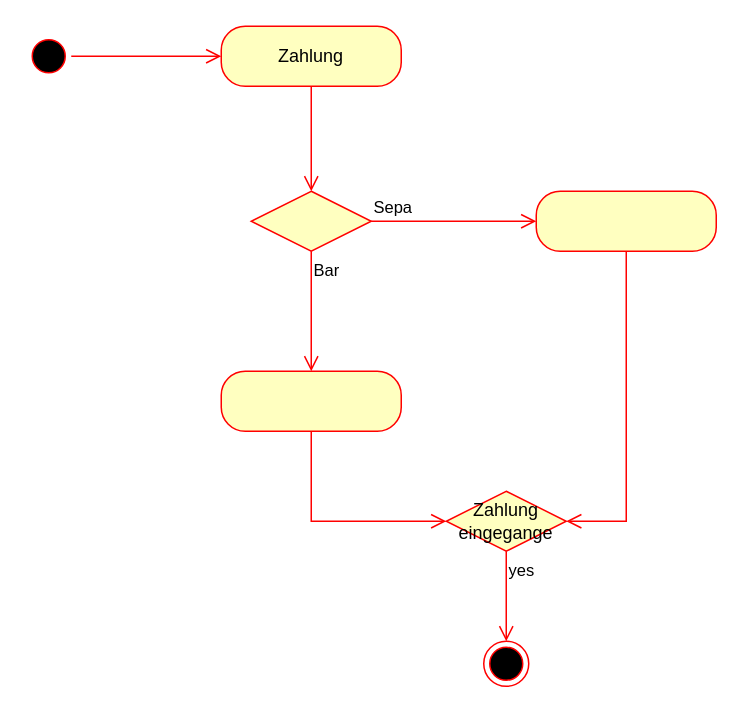
This 743x713 diagram has some shape labels left out. Here are the shapes that lost their labels. From the top down, the centre of each, then its label:
At point 625,220: "Sepa-Einzug".
At point 310,400: "Bar-Zahlung".
